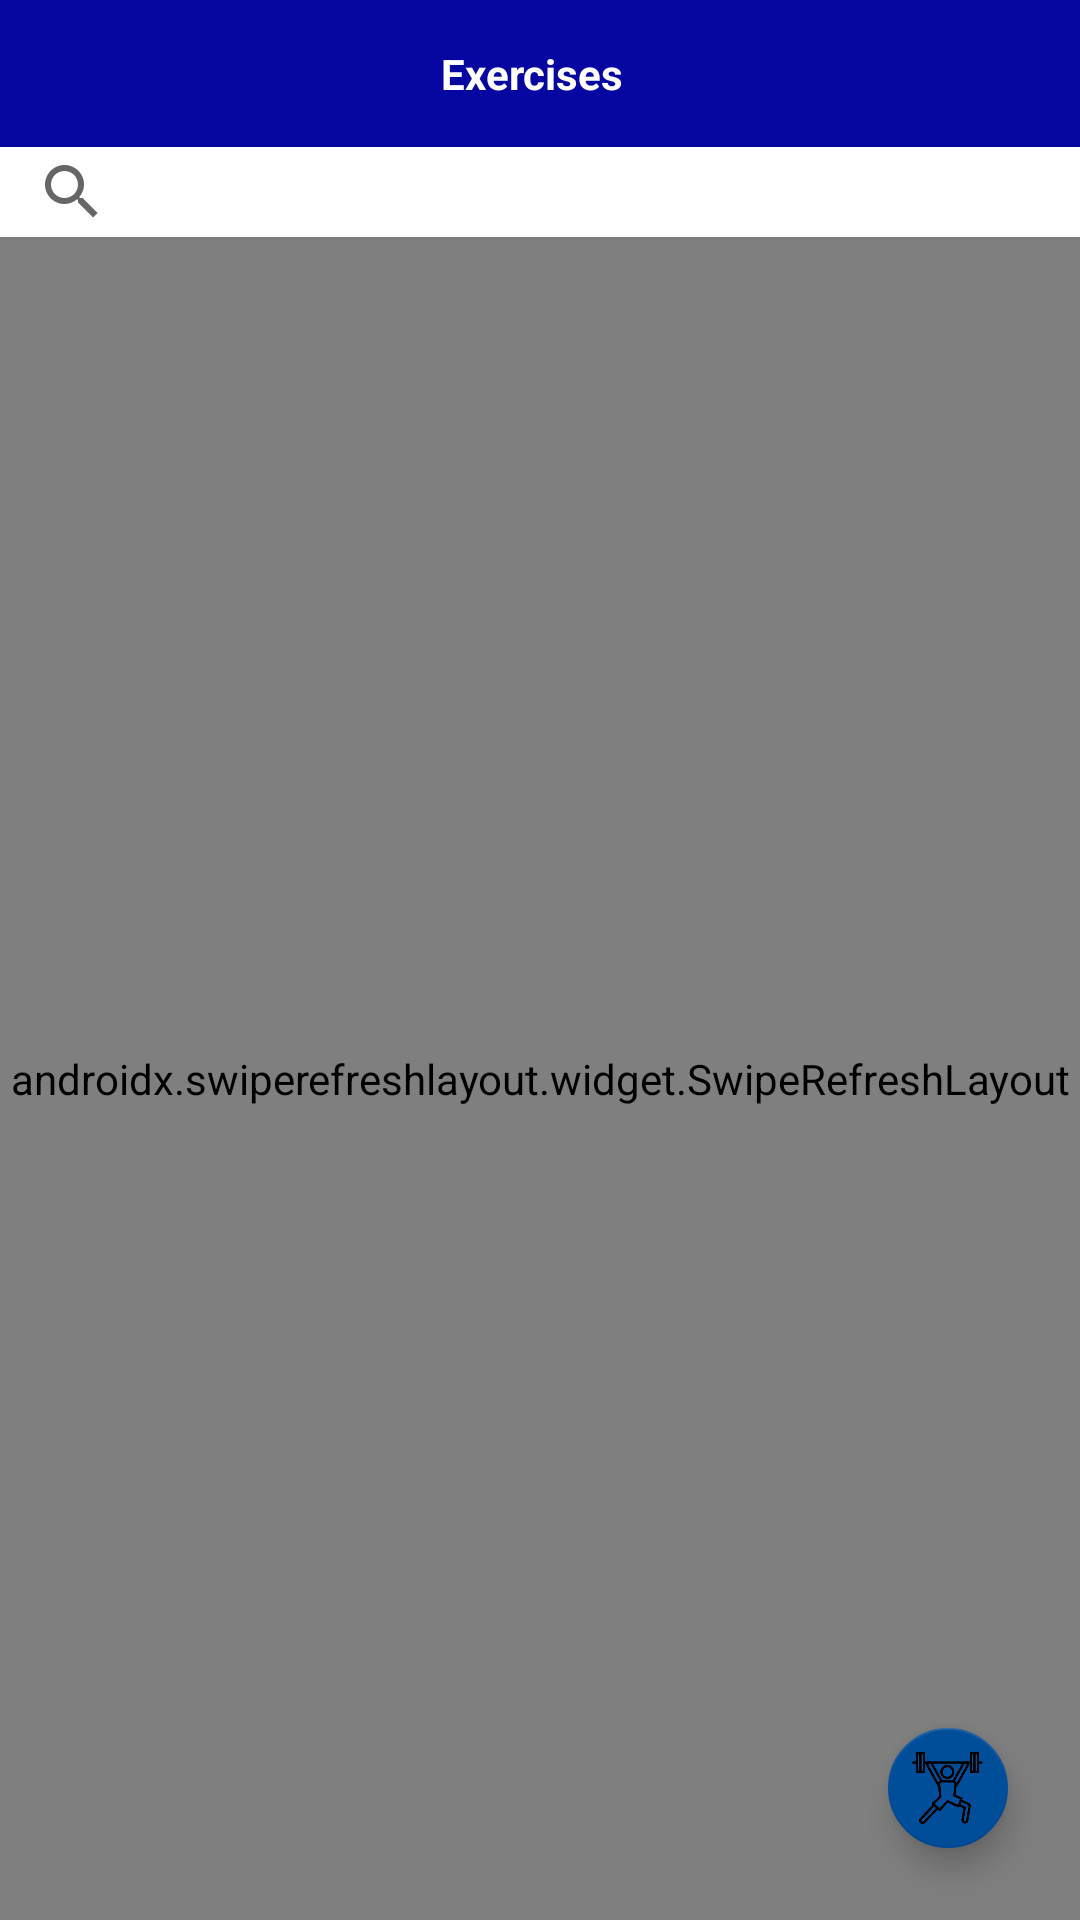

Point at icon controls on the screen. Image size 1080x1920, points as point (x, y).
weightlifter: point (948, 1788)
